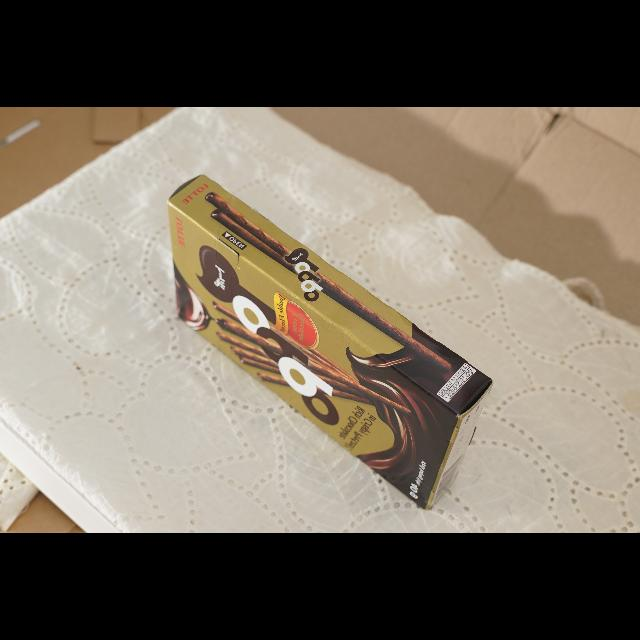banh_toppo_socola: (167, 175, 492, 508)
